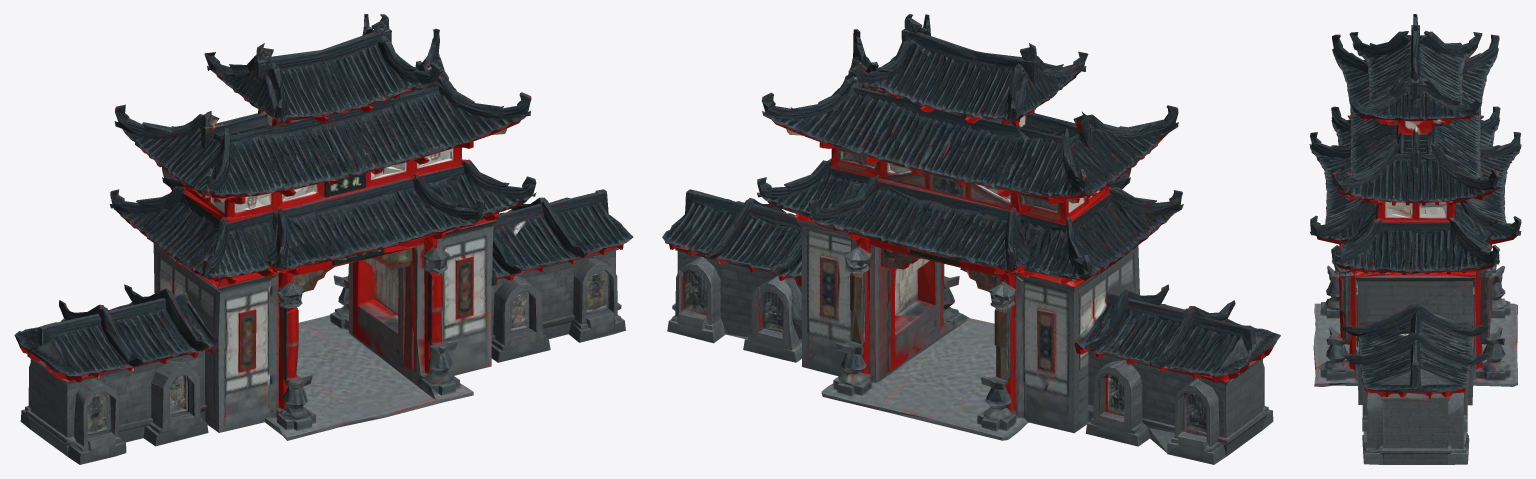
The model's file is gate_sect.glb.
The picture shows the model from 3 angles, left to right: view 1: azimuth 30°, elevation 25°; view 2: azimuth 150°, elevation 25°; view 3: azimuth 270°, elevation 25°; orthographic projection. The views are drawn at different scales.
Bounding box in the file's own units: 1.9 × 1.11 × 0.6895.
1 material, 1 textured.
